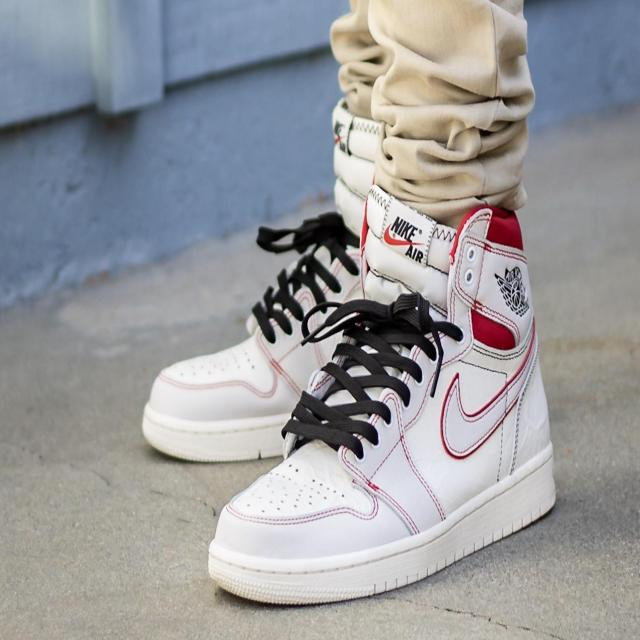shoe: (205, 171, 561, 621), (137, 98, 400, 490)
